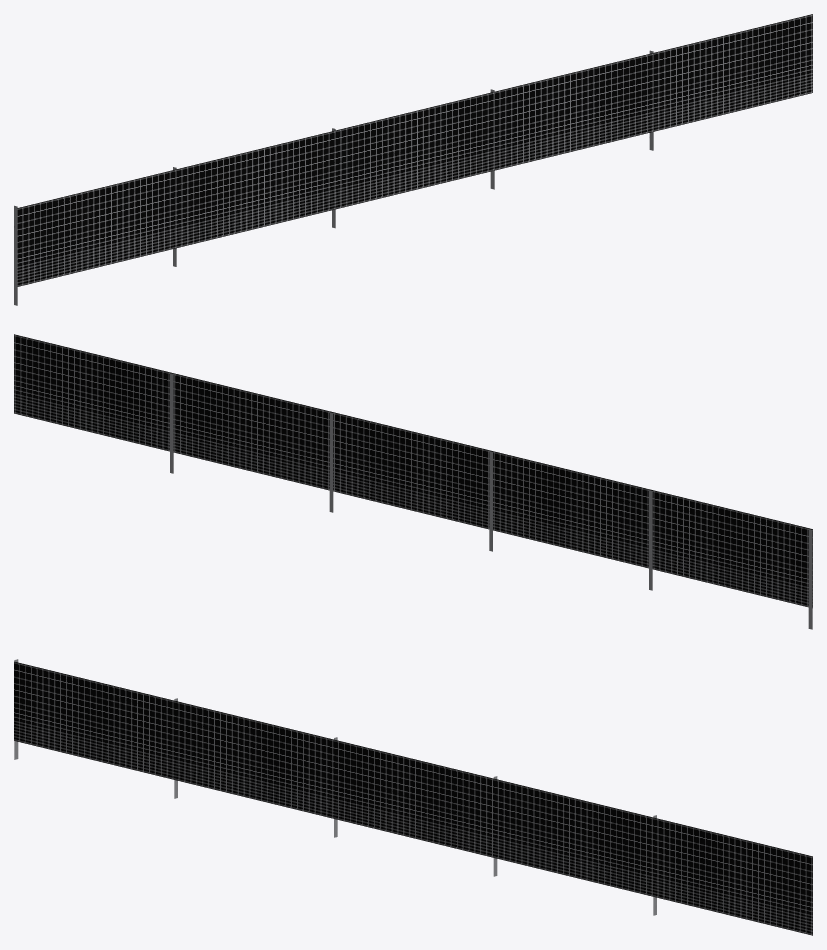
The model's file is fence-tall-mesh-5s-cbj_LOD01.gltf.
3 views of the same model, one above another, from view 1: azimuth 30°, elevation 25°; view 2: azimuth 150°, elevation 25°; view 3: azimuth 330°, elevation 25° (orthographic).
Visible parts, largest first — view 1: Cube.001; view 2: Cube.001; view 3: Cube.001.
Boxes of the visible parts, x1,y1,x2,y2 form: Cube.001: (14,14,812,305); Cube.001: (14,334,812,629); Cube.001: (14,659,812,935).
Size of what is drawn, in the model's own units: 19.56 by 2.33 by 0.0902.
